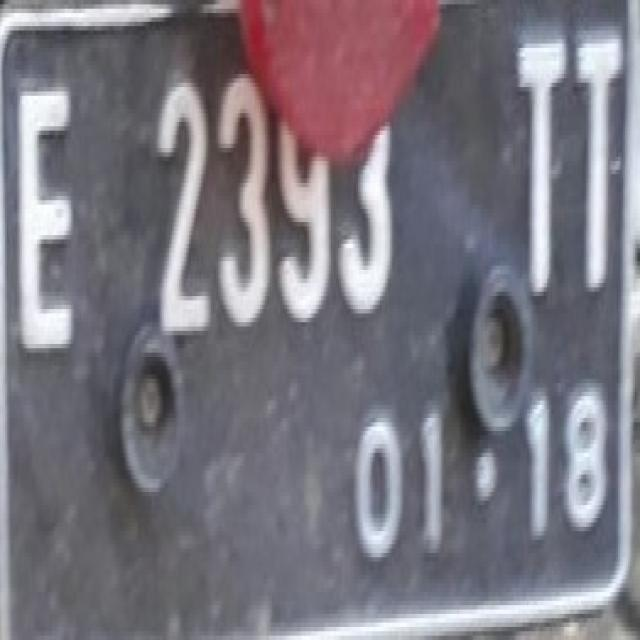plate: (2, 4, 630, 601)
